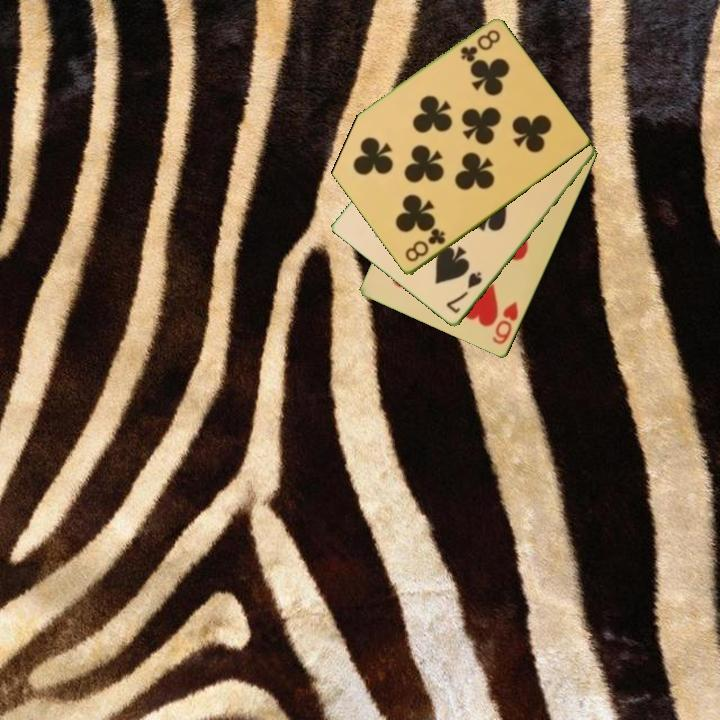6h: (489, 298, 521, 348)
7s: (443, 269, 485, 317)
8c: (401, 225, 448, 265), (456, 26, 503, 65)
